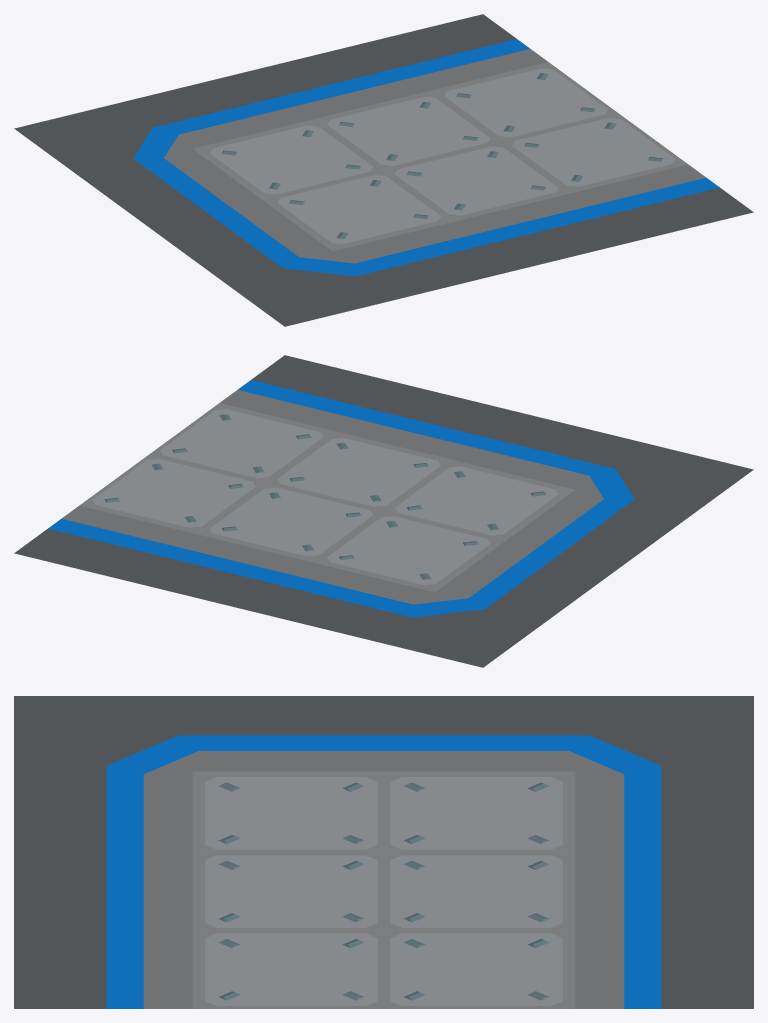
The model's file is floor_2x1_damaged.glb.
The picture shows the model from 3 angles, top to bottom: view 1: azimuth 30°, elevation 25°; view 2: azimuth 150°, elevation 25°; view 3: azimuth 270°, elevation 25°; orthographic projection. The views are drawn at different scales.
Parts seen in each view (by area): view 1: Floor_type_B_002; view 2: Floor_type_B_002; view 3: Floor_type_B_002.
Part boxes in pixels (x1=…): Floor_type_B_002: x1=14, y1=14, x2=753, y2=326; Floor_type_B_002: x1=14, y1=355, x2=753, y2=667; Floor_type_B_002: x1=14, y1=696, x2=753, y2=1008.
Bounding box in the file's own units: 4 × 0.008 × 4.
2 materials, 2 textured.
